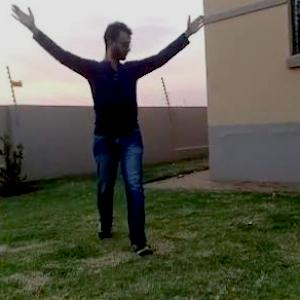takeoff: (1, 4, 218, 258)
